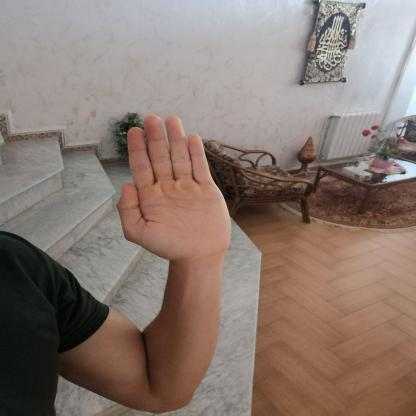SEEN: (107, 105, 244, 268)
